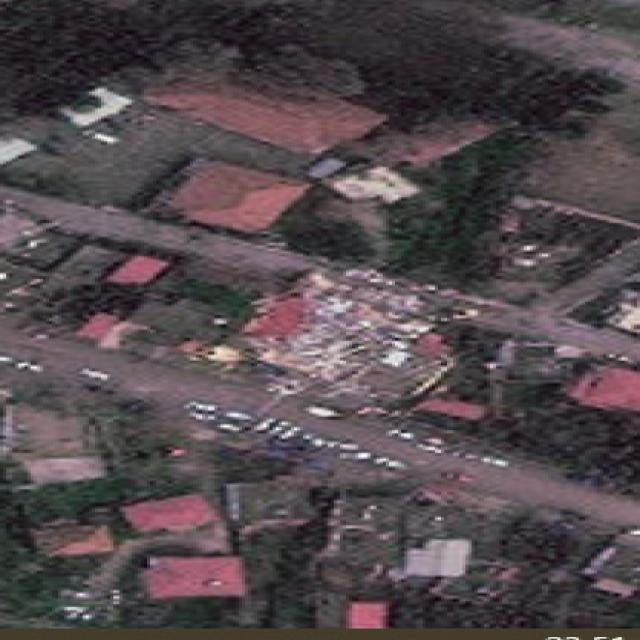Rubble: (238, 278, 466, 393)
